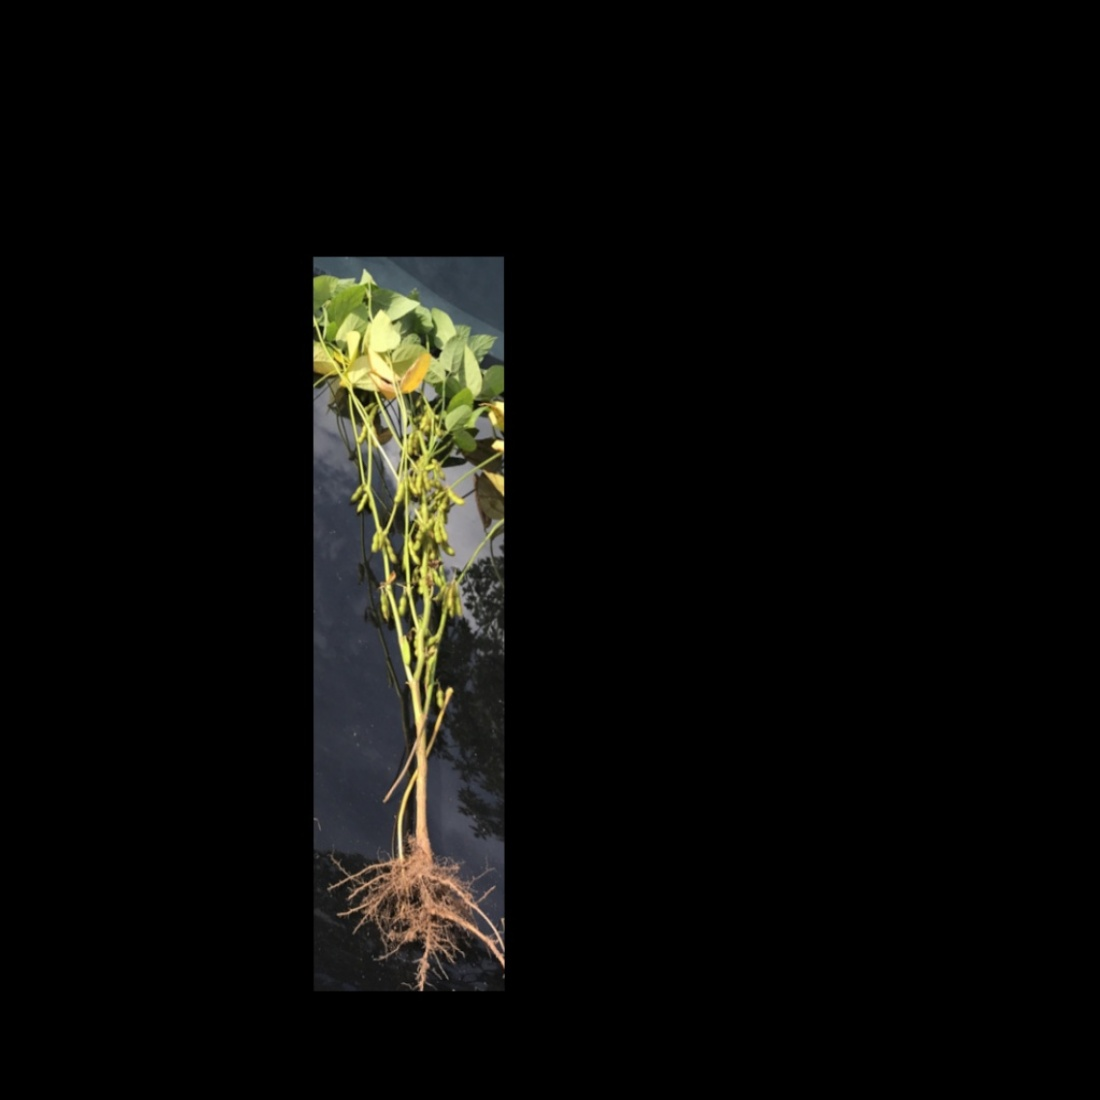pod: (444, 484, 468, 506), (382, 534, 400, 563), (354, 489, 370, 517), (408, 536, 422, 568), (429, 517, 444, 546), (355, 421, 370, 446), (379, 589, 390, 624), (405, 431, 416, 457), (435, 686, 444, 713)
soy: (315, 321, 497, 948)
